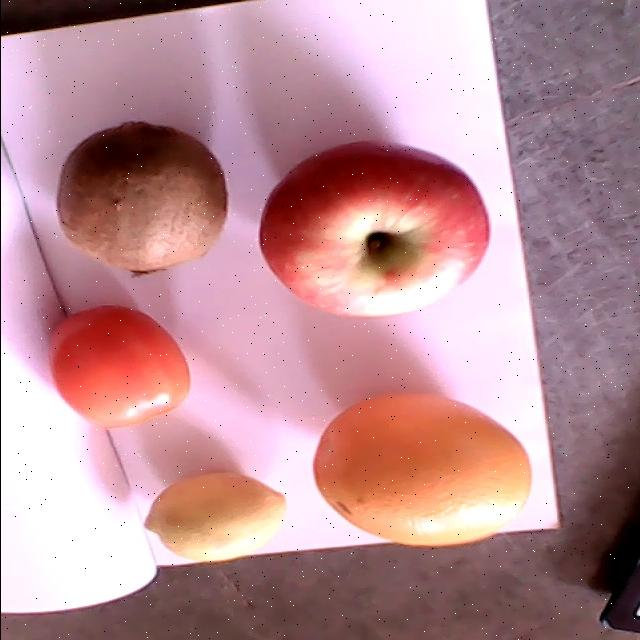apple: (258, 142, 490, 318)
kiwi: (55, 119, 228, 281)
lemon: (144, 471, 286, 562)
orange: (315, 393, 530, 547)
tomato: (49, 306, 189, 430)
